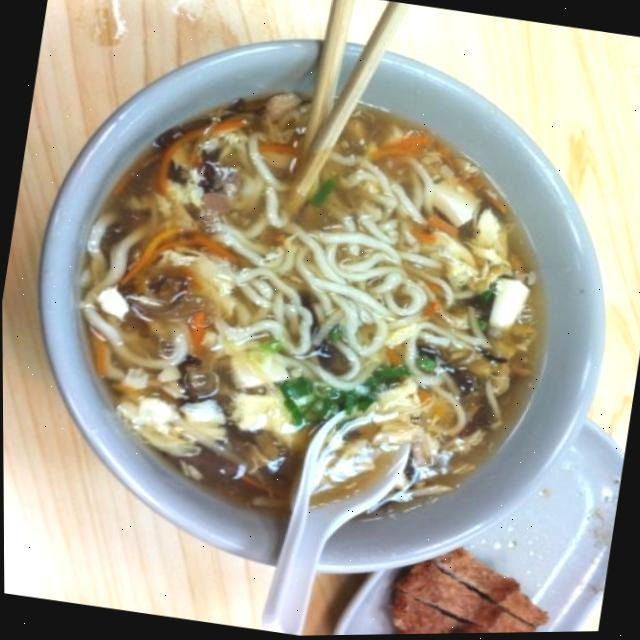面条主食: (11, 0, 638, 624)
